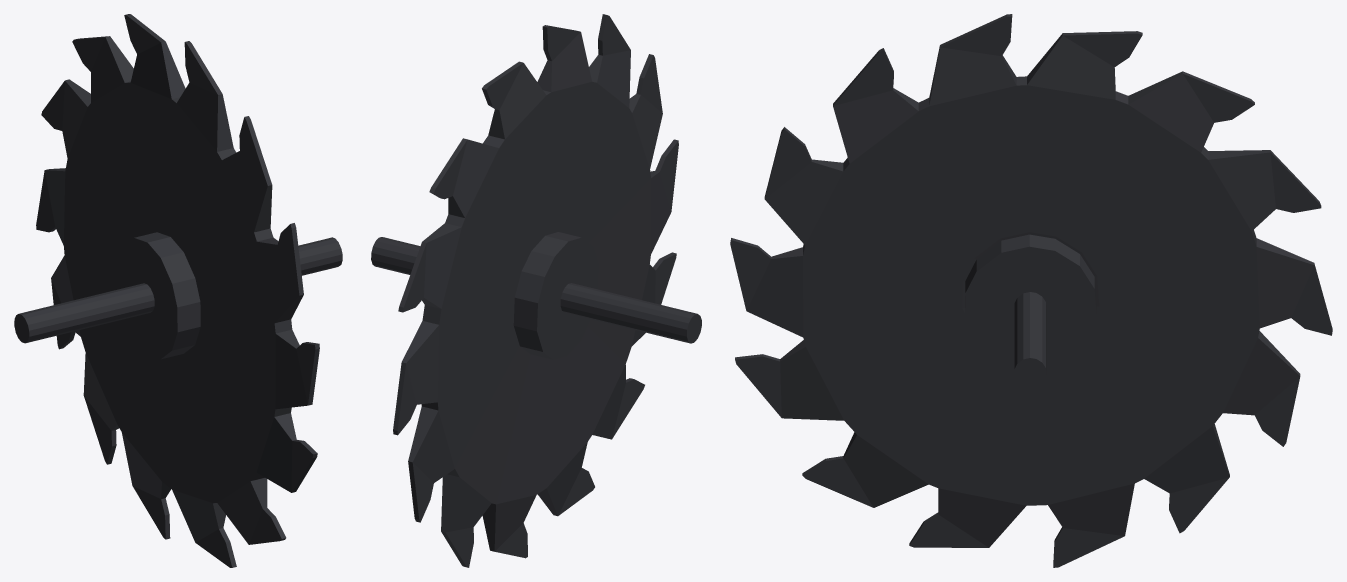
Rendered from spinningSaw.fbx.
The picture shows the model from 3 angles, left to right: view 1: azimuth 30°, elevation 25°; view 2: azimuth 150°, elevation 25°; view 3: azimuth 270°, elevation 25°; orthographic projection. The views are drawn at different scales.
Visible parts, largest first — view 1: spinningBlade; view 2: spinningBlade; view 3: spinningBlade.
Part boxes in pixels (x1,y1,x2,y2): spinningBlade: [14, 14, 342, 567]; spinningBlade: [371, 14, 701, 567]; spinningBlade: [730, 14, 1332, 567].
Bounding box in the file's own units: 98.17 × 153 × 151.
